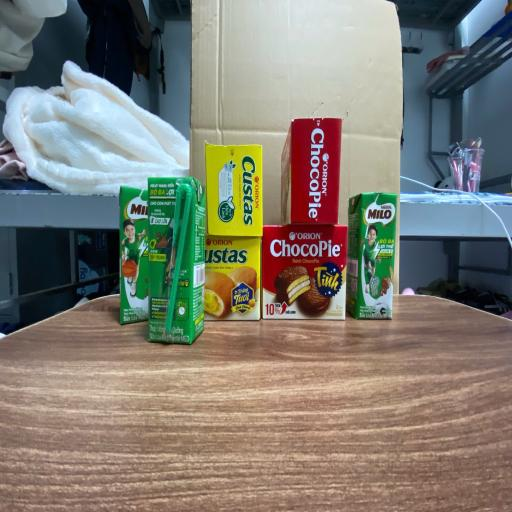chocopie: (262, 224, 347, 320), (281, 118, 342, 225)
custas: (204, 141, 262, 236), (204, 234, 260, 321)
milo: (148, 176, 205, 344), (346, 192, 398, 320), (119, 186, 148, 324)
